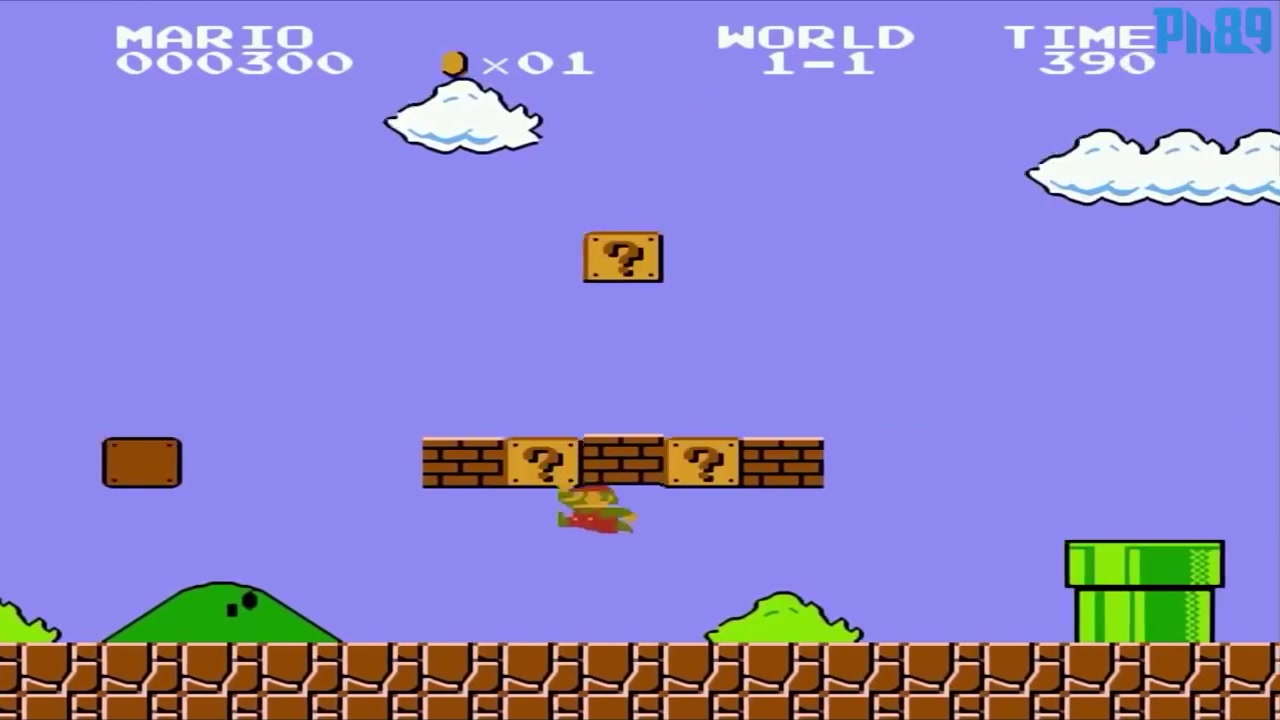mario: (554, 476, 640, 546)
